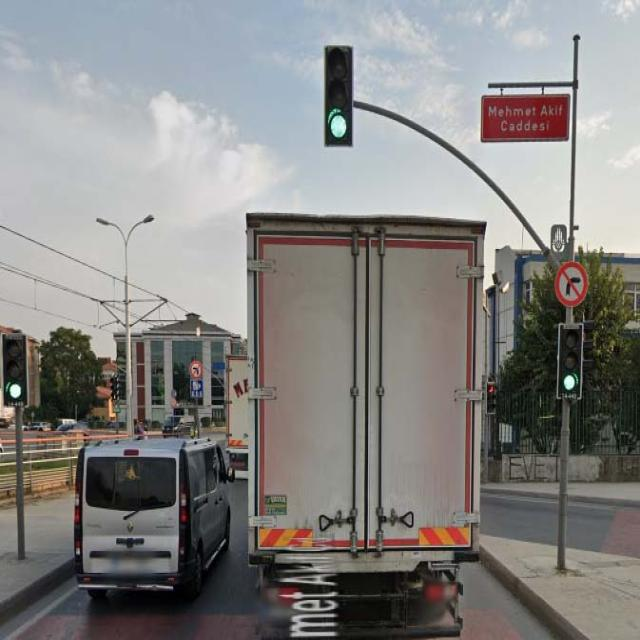sagadonulmez: (554, 262, 588, 307)
soladonulmez: (190, 361, 203, 377)
yesil: (323, 45, 353, 147), (1, 334, 28, 408), (559, 324, 581, 397)
